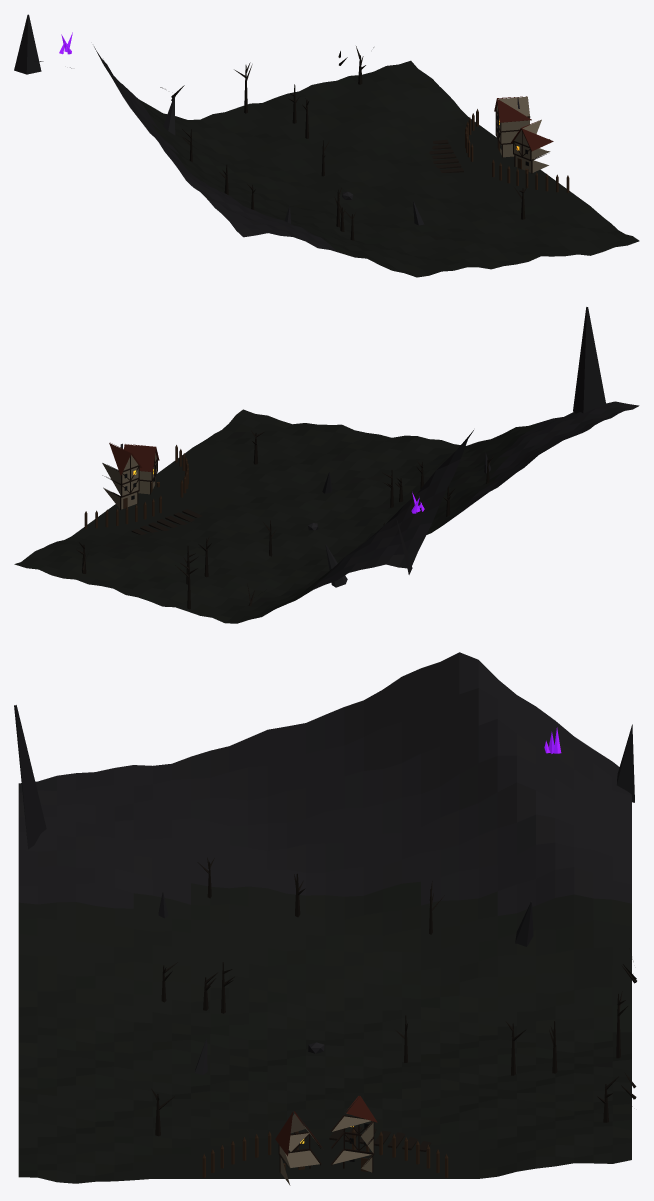
Rendered from chunk-1-3.glb.
The picture shows the model from 3 angles, top to bottom: view 1: azimuth 30°, elevation 25°; view 2: azimuth 150°, elevation 25°; view 3: azimuth 270°, elevation 25°; orthographic projection. The views are drawn at different scales.
Visible parts, largest first — view 1: Ash_Ground, Mountain_Rock, Plaster, Dead_Wood, Old_Wood, Roof_Tile, Farm_Soil, Dark_Rock, Timber; view 2: Ash_Ground, Mountain_Rock, Dead_Wood, Plaster, Old_Wood, Roof_Tile, Farm_Soil, Dark_Rock, Timber; view 3: Ash_Ground, Mountain_Rock, Cliff_Rock, Dead_Wood, Plaster, Old_Wood, Dark_Rock, Timber, Roof_Tile.
Boxes of the visible parts, left/top/right/bottom form: Ash_Ground: left=137, top=60, right=639, bottom=277; Mountain_Rock: left=14, top=14, right=341, bottom=253; Plaster: left=496, top=96, right=550, bottom=172; Dead_Wood: left=160, top=46, right=527, bottom=240; Old_Wood: left=465, top=109, right=569, bottom=192; Roof_Tile: left=494, top=96, right=553, bottom=151; Farm_Soil: left=429, top=139, right=463, bottom=172; Dark_Rock: left=163, top=96, right=424, bottom=225; Timber: left=495, top=109, right=546, bottom=173; Ash_Ground: left=14, top=409, right=539, bottom=623; Mountain_Rock: left=312, top=307, right=639, bottom=590; Dead_Wood: left=51, top=430, right=493, bottom=609; Plaster: left=102, top=453, right=156, bottom=509; Old_Wood: left=84, top=445, right=188, bottom=528; Roof_Tile: left=109, top=442, right=159, bottom=475; Farm_Soil: left=131, top=509, right=202, bottom=534; Dark_Rock: left=308, top=453, right=490, bottom=587; Timber: left=102, top=455, right=157, bottom=509; Ash_Ground: left=18, top=881, right=631, bottom=1183; Mountain_Rock: left=14, top=652, right=634, bottom=915; Cliff_Rock: left=344, top=652, right=516, bottom=827; Dead_Wood: left=151, top=857, right=636, bottom=1136; Plaster: left=279, top=1113, right=373, bottom=1185; Old_Wood: left=202, top=1128, right=448, bottom=1177; Dark_Rock: left=158, top=892, right=533, bottom=1074; Timber: left=278, top=1115, right=374, bottom=1172; Roof_Tile: left=275, top=1096, right=377, bottom=1156.
Bounding box in the file's own units: 83.14 × 39.23 × 81.63.
